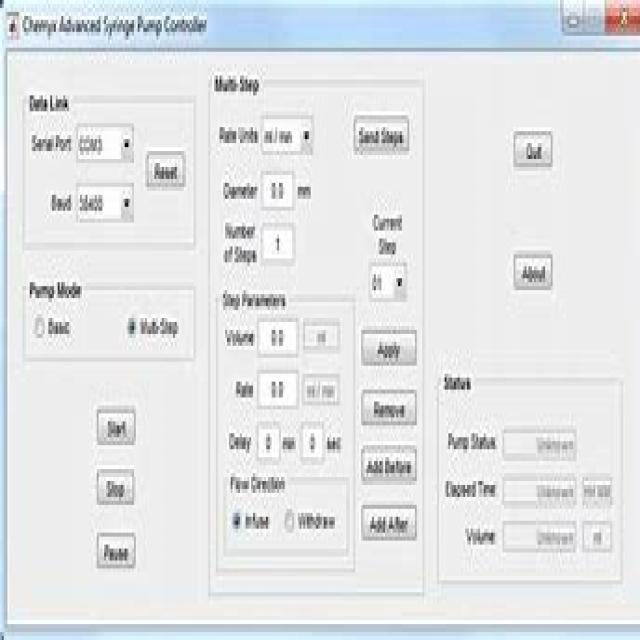button: (352, 112, 410, 156), (360, 501, 418, 544), (359, 442, 417, 484), (360, 387, 417, 427), (360, 328, 417, 367), (144, 146, 188, 193), (96, 404, 137, 448), (96, 530, 136, 572), (96, 466, 136, 507), (513, 252, 553, 292), (513, 129, 553, 169), (606, 0, 640, 36), (584, 0, 606, 36), (558, 0, 582, 32)
dropdownMenu: (76, 118, 136, 166), (76, 177, 134, 224), (261, 111, 315, 158), (369, 256, 408, 304)
icon: (5, 7, 21, 39)
input: (502, 426, 578, 464), (502, 472, 577, 507), (502, 518, 576, 553), (256, 311, 300, 362), (256, 368, 299, 410), (260, 218, 296, 268), (259, 166, 295, 210), (303, 317, 342, 355), (301, 372, 341, 407), (582, 518, 612, 554), (300, 419, 325, 462), (256, 419, 281, 462), (581, 474, 612, 508)
label: (22, 12, 209, 42), (223, 219, 258, 269), (365, 209, 403, 254), (212, 70, 262, 100), (229, 472, 285, 498), (443, 477, 499, 502), (222, 288, 288, 309), (29, 130, 73, 161), (28, 278, 84, 302), (447, 429, 497, 455), (217, 121, 260, 147), (140, 315, 182, 341), (28, 90, 72, 114), (298, 510, 337, 533), (222, 179, 257, 204), (464, 524, 496, 549), (226, 428, 253, 455), (223, 326, 254, 349), (244, 509, 274, 532), (49, 189, 72, 218), (443, 374, 472, 396), (47, 316, 71, 342), (234, 380, 254, 401), (296, 183, 315, 205), (327, 434, 343, 455), (282, 435, 296, 455)
radio: (32, 309, 46, 342), (284, 504, 295, 534), (126, 312, 137, 342), (232, 506, 242, 534)
